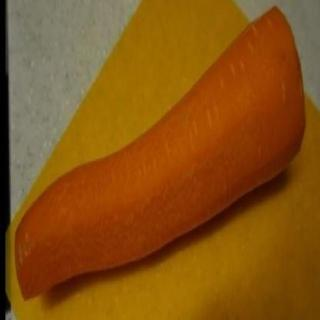carrot: (9, 5, 310, 303)
